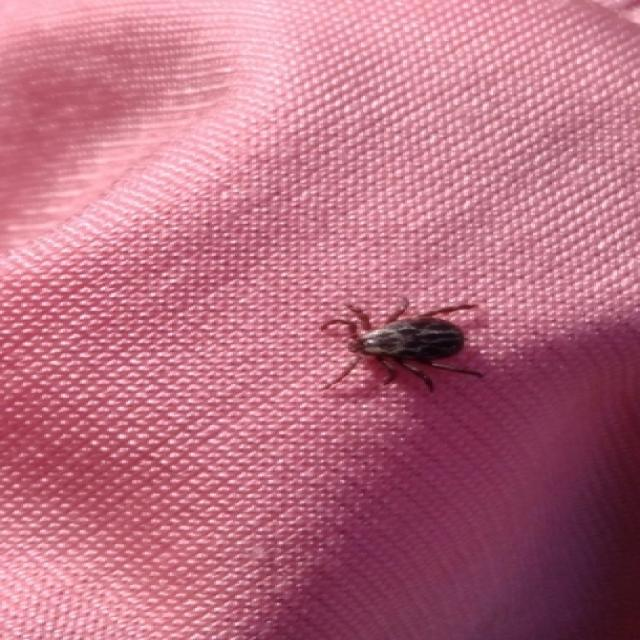Dermacentor Reticulatus-M: (313, 297, 483, 392)
